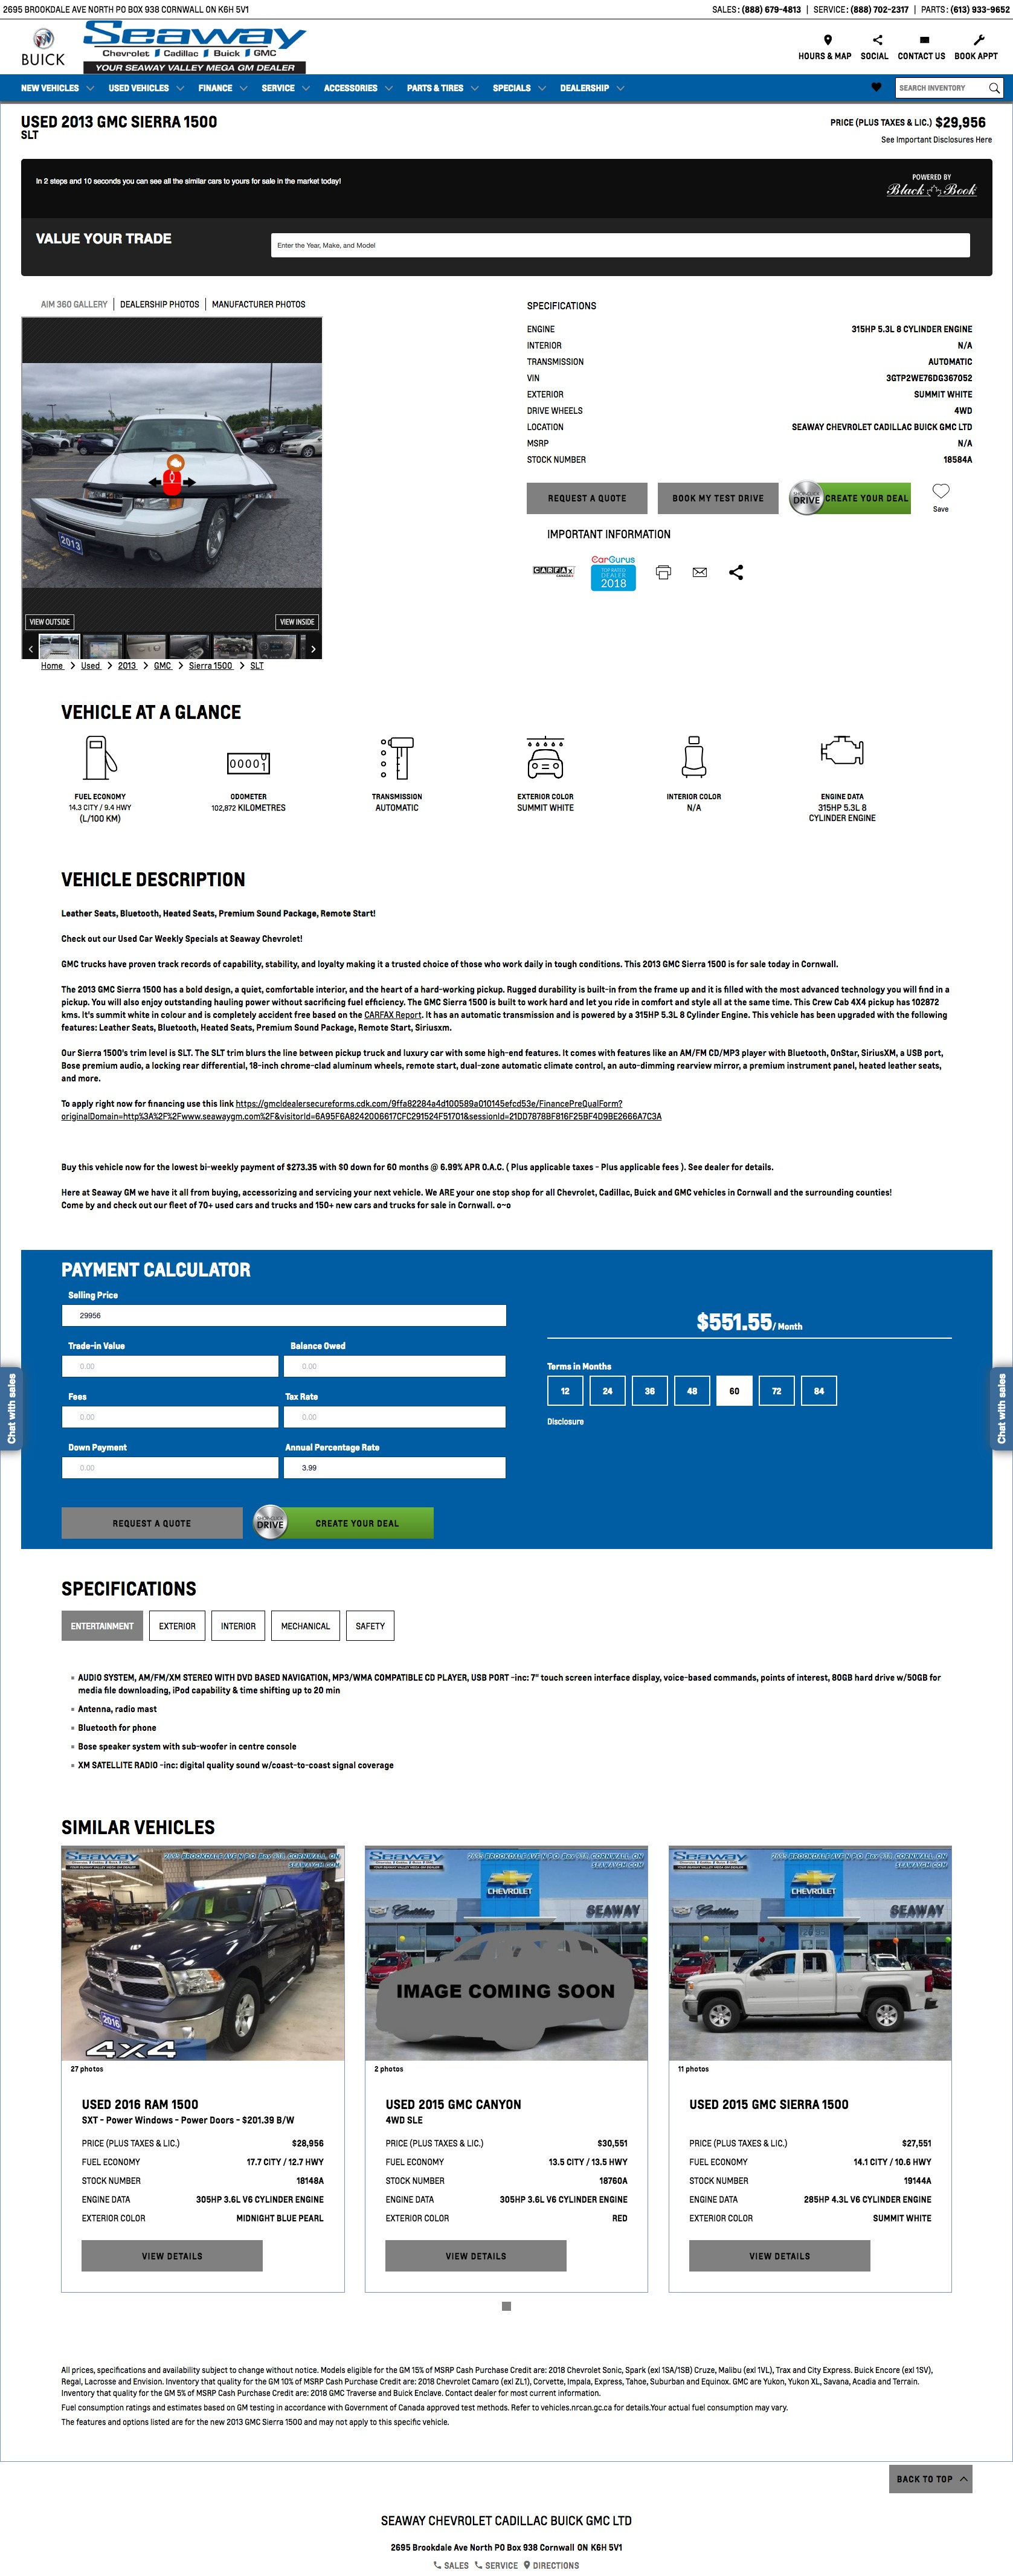car: (312, 646, 315, 654)
